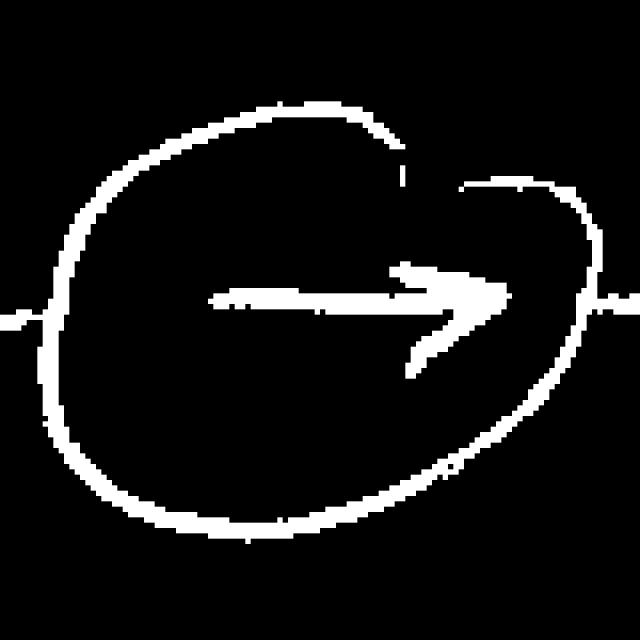current_source: (24, 95, 615, 560)
